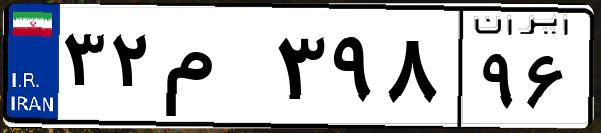2: (110, 28, 158, 98)
3: (270, 28, 330, 110), (57, 26, 110, 100)
6: (525, 38, 570, 115)
8: (385, 28, 445, 110)
9: (330, 28, 385, 110), (475, 38, 525, 113)
م: (158, 20, 270, 120)
